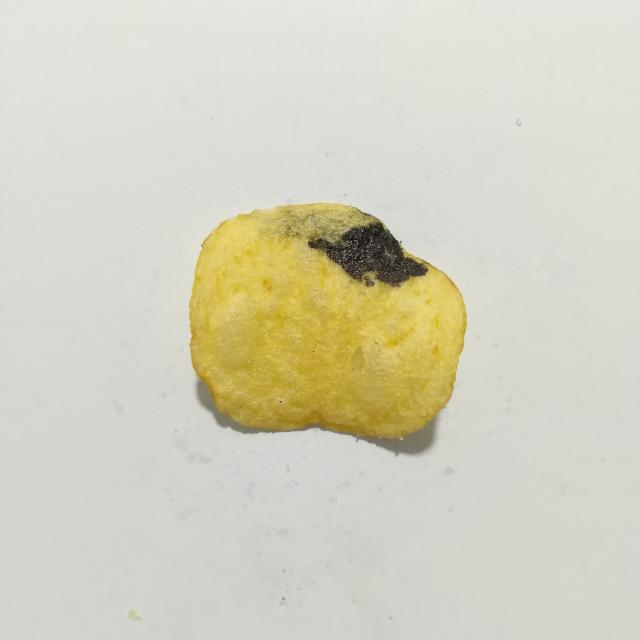chip: (189, 203, 466, 438)
damaged: (308, 222, 428, 287)
semi-damaged: (249, 203, 387, 244)
